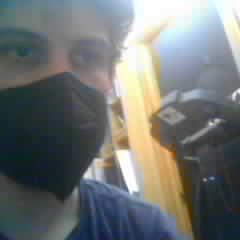with_mask: (1, 4, 116, 198)
